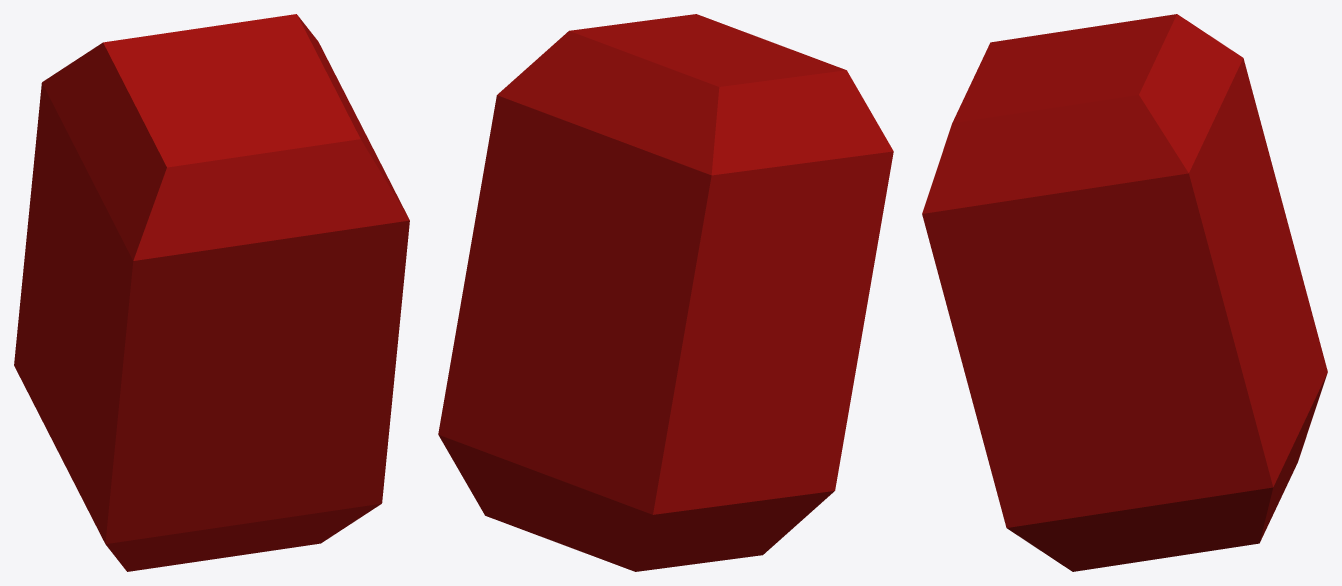
File: town_jewel0017.obj
3 views of the same model, side by side, from view 1: azimuth 30°, elevation 25°; view 2: azimuth 150°, elevation 25°; view 3: azimuth 270°, elevation 25° (orthographic). The views are drawn at different scales.
Visible parts, largest first — view 1: RedJewel; view 2: RedJewel; view 3: RedJewel.
Part boxes in pixels (left/top/right/bottom): RedJewel: left=14, top=14, right=409, bottom=571; RedJewel: left=438, top=14, right=893, bottom=571; RedJewel: left=922, top=14, right=1327, bottom=571.
Bounding box in the file's own units: 0.7886 × 1.21 × 0.9254.
